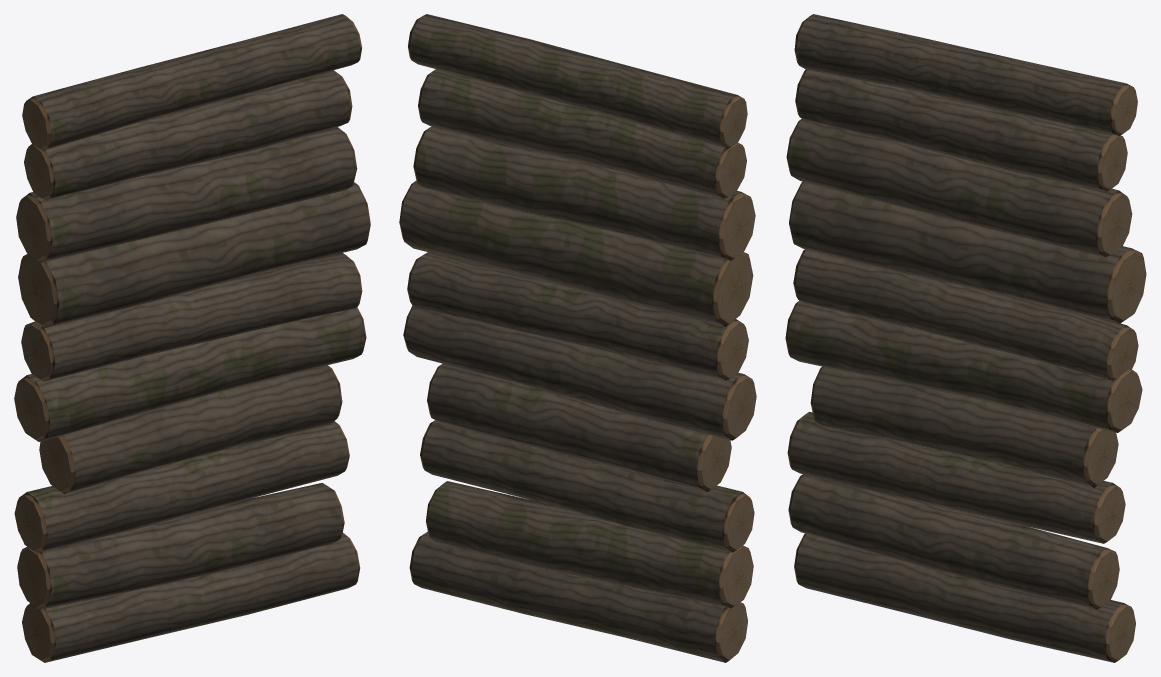
The model's file is S7U_Rev_Logs_1m.fbx.
The picture shows the model from 3 angles, left to right: view 1: azimuth 30°, elevation 25°; view 2: azimuth 150°, elevation 25°; view 3: azimuth 330°, elevation 25°; orthographic projection.
Parts seen in each view (by area): view 1: S7U_Rev_Logs_1m; view 2: S7U_Rev_Logs_1m; view 3: S7U_Rev_Logs_1m.
Boxes of the visible parts, x1,y1,x2,y2 form: S7U_Rev_Logs_1m: (14, 14, 370, 662); S7U_Rev_Logs_1m: (399, 14, 756, 662); S7U_Rev_Logs_1m: (785, 14, 1146, 662).
Size of the model in its own units: 1.22 by 2.04 by 0.2637.
